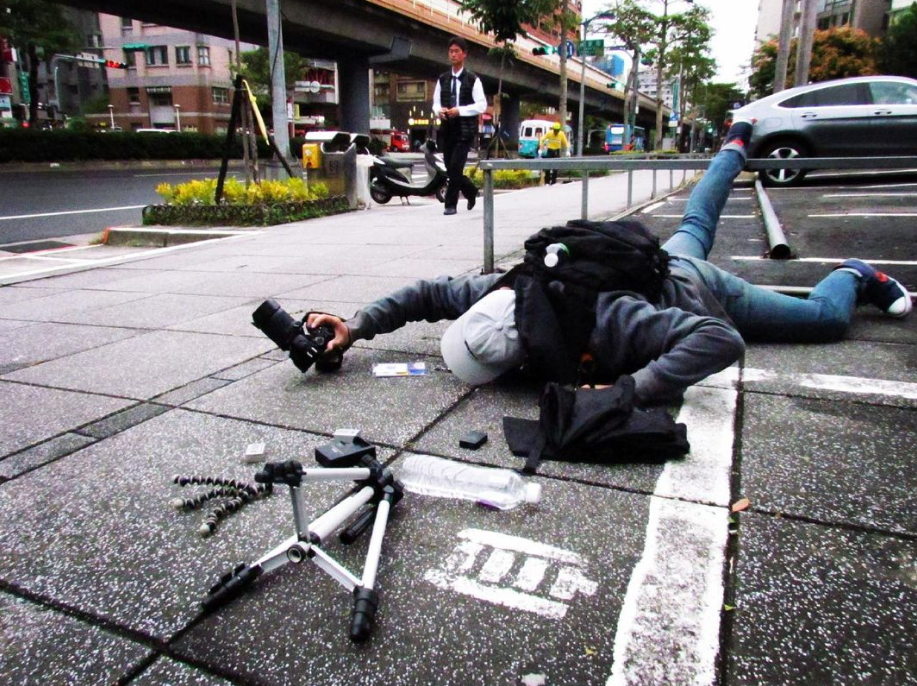fall: (232, 205, 917, 465)
